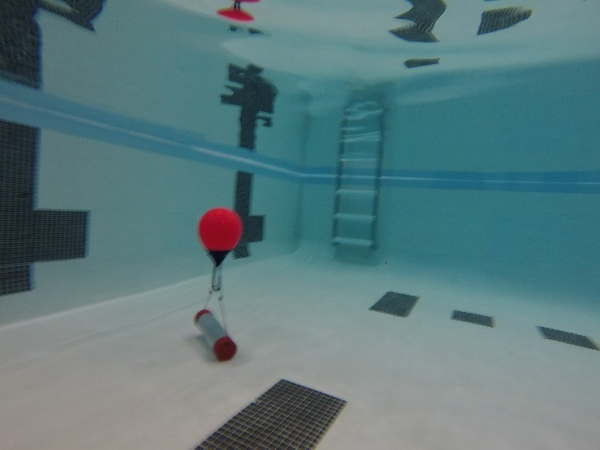buoy_red: (196, 203, 244, 269)
